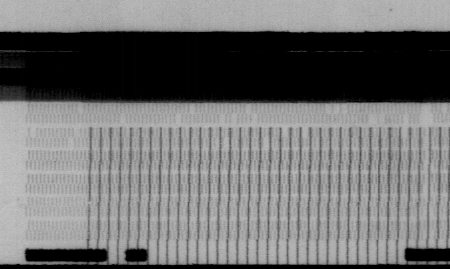Broken hole: (418, 101, 435, 125), (243, 102, 259, 125), (324, 101, 350, 115), (215, 112, 238, 124), (365, 114, 387, 125), (186, 102, 198, 116), (117, 114, 129, 127), (401, 113, 412, 127), (65, 137, 76, 149), (28, 126, 38, 139), (72, 127, 82, 139), (76, 102, 85, 115), (173, 114, 183, 125), (440, 103, 449, 112)
